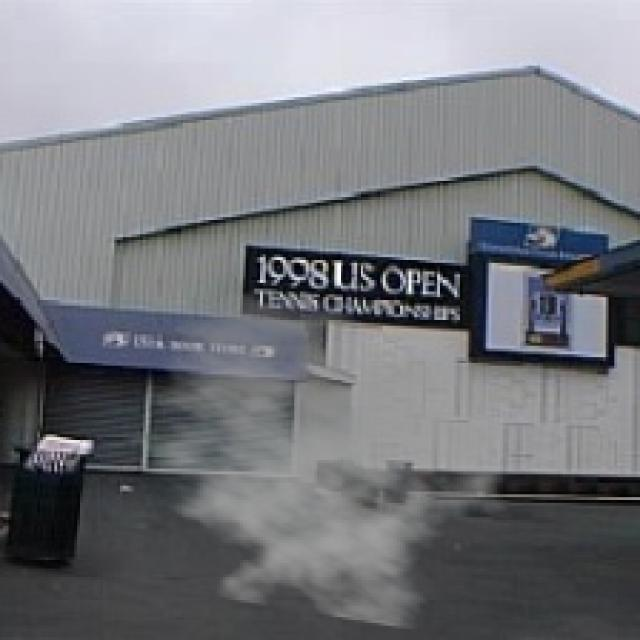Smoke: (106, 286, 528, 632)
